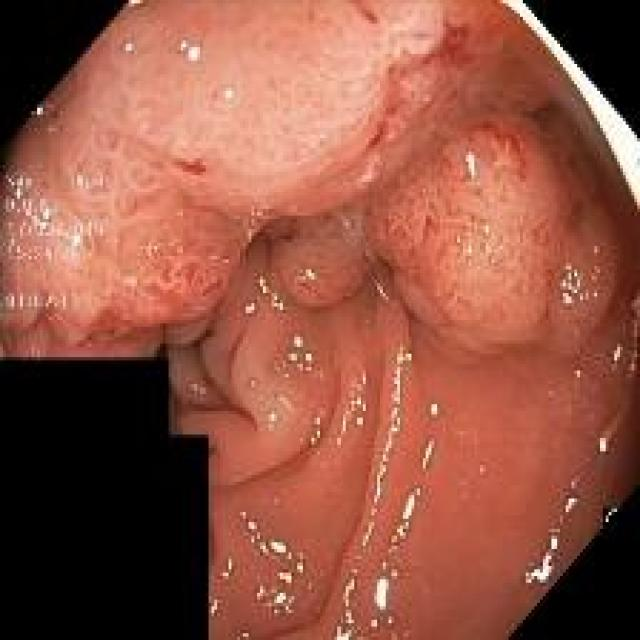Polyps: (368, 118, 619, 360), (264, 214, 372, 309)
